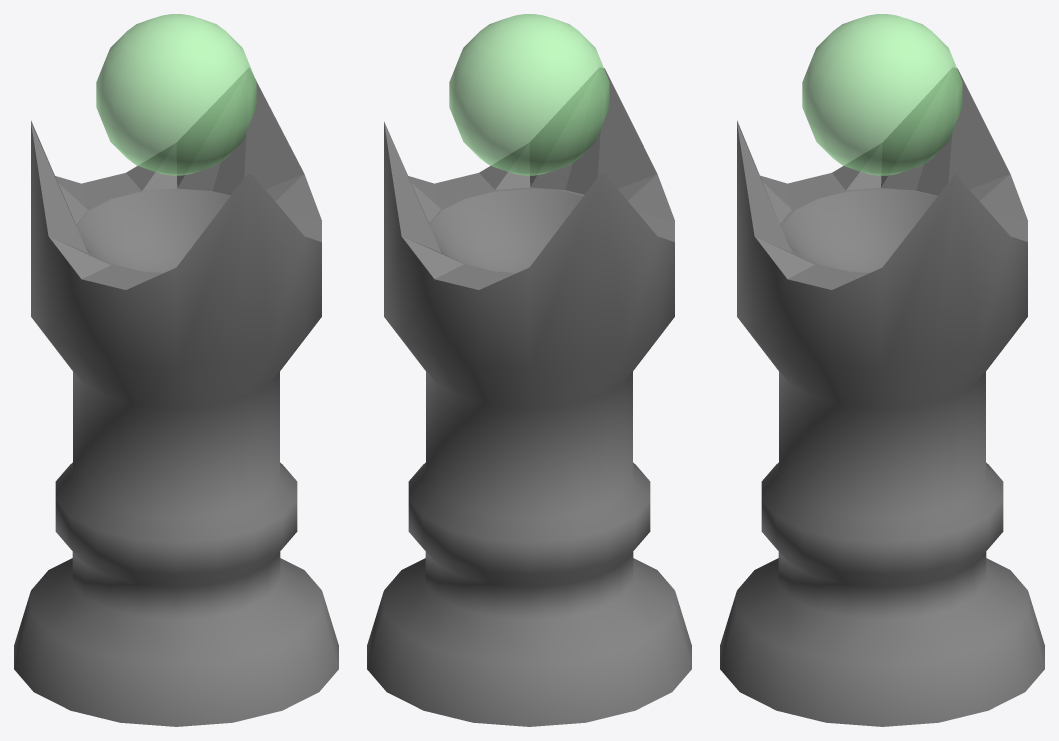
Rendered from Tower-1.glb.
3 renders of one model, left to right at view 1: azimuth 30°, elevation 25°; view 2: azimuth 150°, elevation 25°; view 3: azimuth 270°, elevation 25°, orthographic.
Parts seen in each view (by area): view 1: Cylinder001, Sphere001; view 2: Cylinder001, Sphere001; view 3: Cylinder001, Sphere001.
Part boxes in pixels (bbox=[...]): Cylinder001: bbox=[14, 68, 338, 726]; Sphere001: bbox=[96, 14, 256, 175]; Cylinder001: bbox=[367, 67, 691, 726]; Sphere001: bbox=[449, 14, 609, 175]; Cylinder001: bbox=[720, 67, 1044, 726]; Sphere001: bbox=[802, 14, 962, 175].
Bounding box in the file's own units: 0.2231 × 0.475 × 0.2197.
